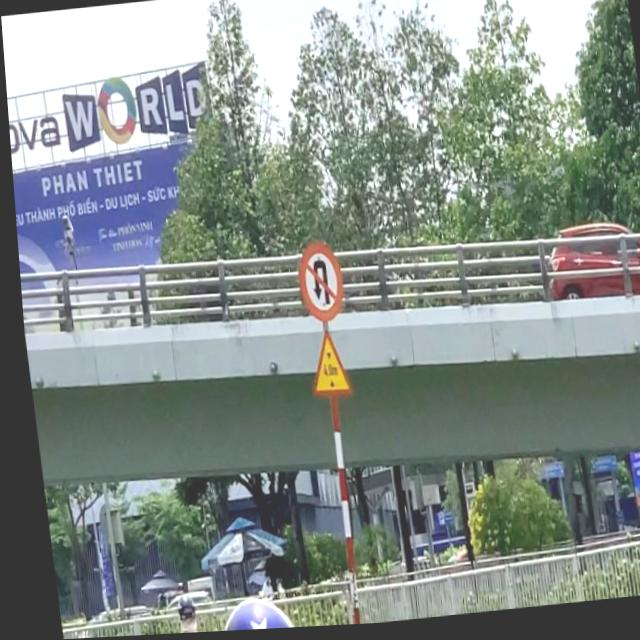Cam quay dau xe: (291, 243, 341, 325)
Chieu cao an toan: (297, 326, 349, 408)
